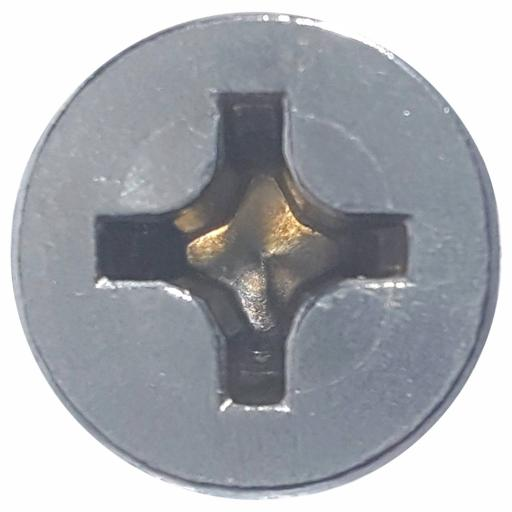Phillips: (12, 17, 498, 494)
